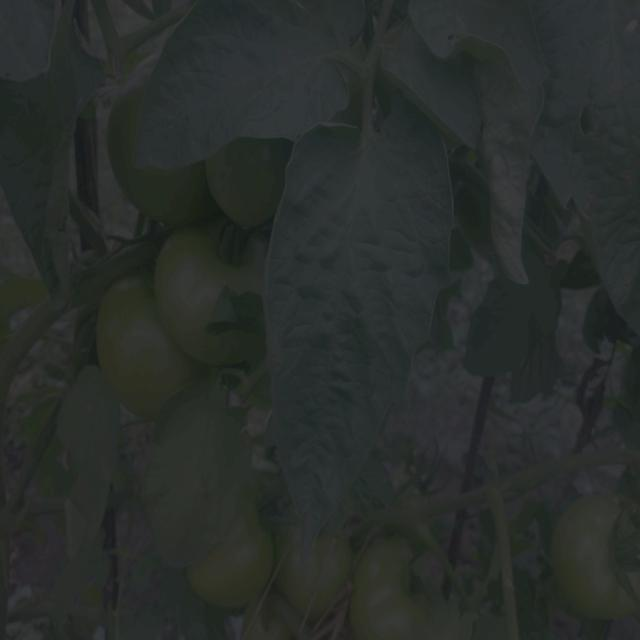tomato: (162, 220, 260, 364), (102, 273, 198, 401), (547, 494, 640, 617), (356, 543, 432, 630), (274, 541, 354, 613), (190, 536, 280, 600), (211, 142, 282, 217), (134, 164, 206, 220), (107, 82, 142, 176)
